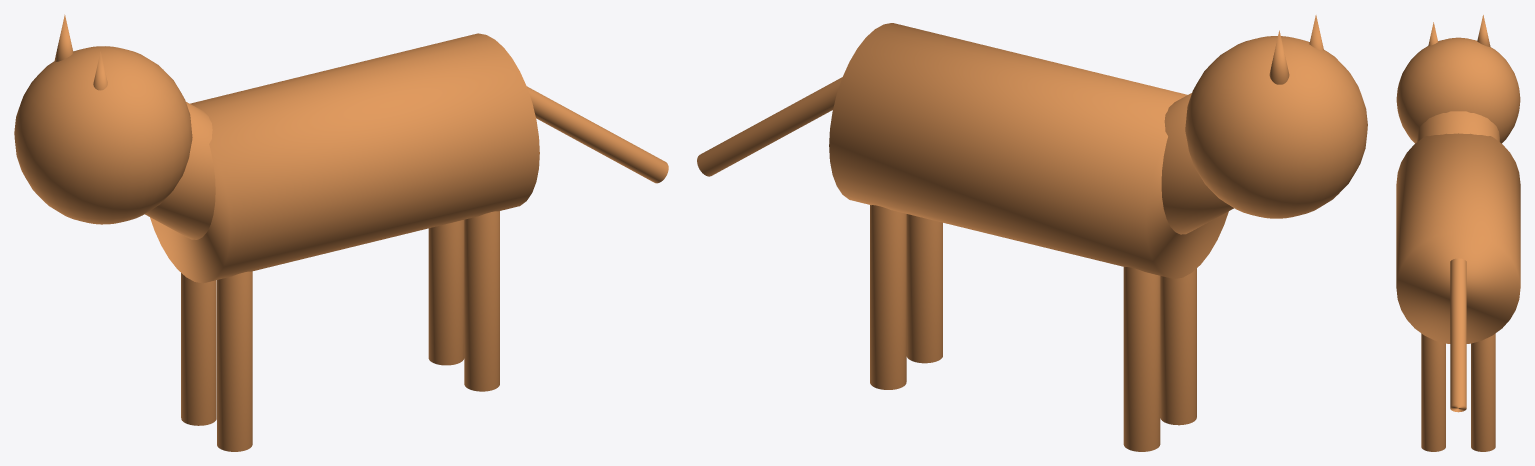
Rendered from cat.dae.
3 renders of one model, left to right at view 1: azimuth 30°, elevation 25°; view 2: azimuth 150°, elevation 25°; view 3: azimuth 270°, elevation 25°, orthographic. The views are drawn at different scales.
Parts seen in each view (by area): view 1: Body, Head, Foot_Fore_Left, Foot_Back_Left, Foot_Fore_Right, Foot_Back_Right, Neck, Tail; view 2: Body, Head, Foot_Fore_Right, Foot_Back_Right, Foot_Fore_Left, Foot_Back_Left, Neck, Tail; view 3: Body, Head, Foot_Back_Right, Foot_Back_Left, Tail, Neck, Ear_Right.
Boxes of the visible parts, x1,y1,x2,y2 form: Body: [150, 33, 539, 283]; Head: [14, 46, 192, 224]; Foot_Fore_Left: [217, 271, 252, 451]; Foot_Back_Left: [464, 211, 499, 391]; Foot_Fore_Right: [181, 273, 216, 425]; Foot_Back_Right: [428, 220, 464, 365]; Neck: [145, 102, 215, 239]; Tail: [527, 86, 668, 183]; Body: [829, 23, 1228, 278]; Head: [1185, 36, 1367, 218]; Foot_Fore_Right: [1123, 267, 1160, 451]; Foot_Back_Right: [870, 205, 906, 389]; Foot_Fore_Left: [1160, 268, 1196, 425]; Foot_Back_Left: [906, 214, 942, 363]; Neck: [1161, 93, 1233, 234]; Tail: [697, 77, 842, 176]; Body: [1396, 133, 1520, 343]; Head: [1396, 37, 1520, 143]; Foot_Back_Right: [1471, 333, 1495, 451]; Foot_Back_Left: [1421, 333, 1445, 451]; Tail: [1450, 258, 1466, 412]; Neck: [1417, 111, 1499, 141]; Ear_Right: [1477, 15, 1490, 46].
Size of the model in its own units: 0.6209 by 0.15 by 0.405.
